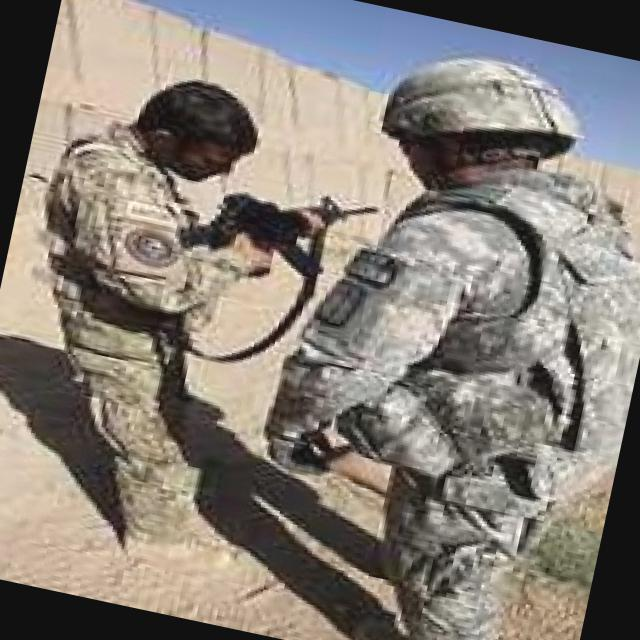long weapon: (188, 165, 362, 282)
